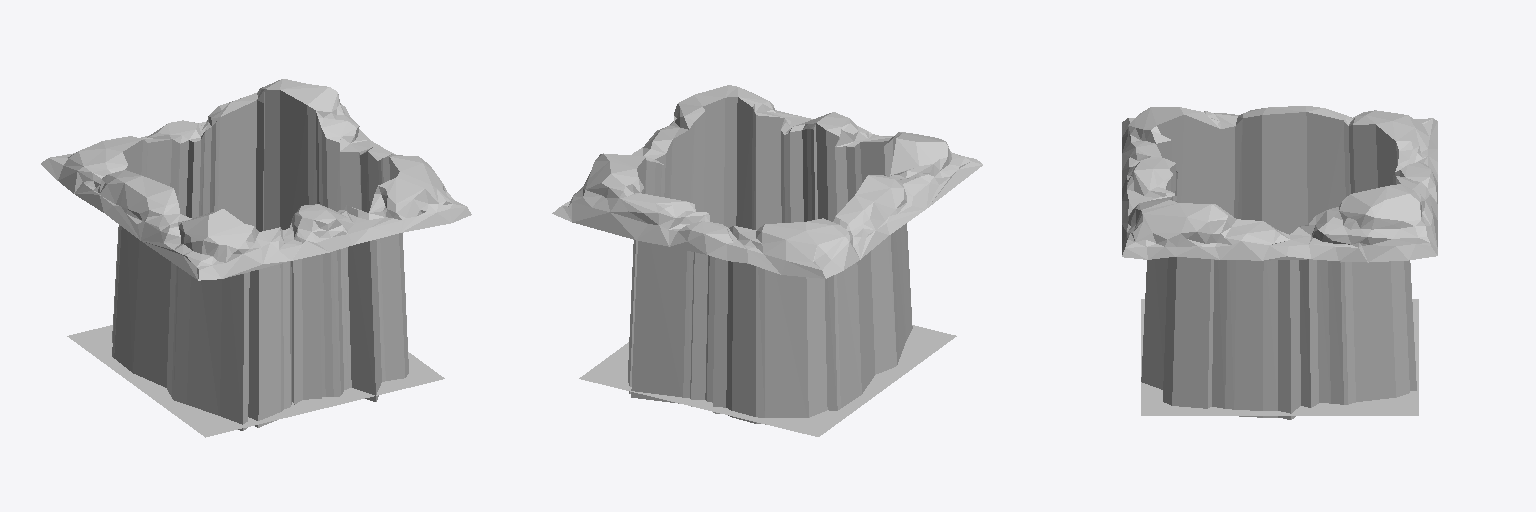
File: stone_door_open_2.obj
3 views of the same model, side by side, from view 1: azimuth 30°, elevation 25°; view 2: azimuth 150°, elevation 25°; view 3: azimuth 270°, elevation 25° (orthographic).
Parts seen in each view (by area): view 1: Plane.002; view 2: Plane.002; view 3: Plane.002.
Part boxes in pixels (bbox=[...]): Plane.002: bbox=[41, 79, 471, 437]; Plane.002: bbox=[552, 85, 982, 436]; Plane.002: bbox=[1122, 106, 1437, 419].
Size of the model in its own units: 2 by 1.51 by 2.